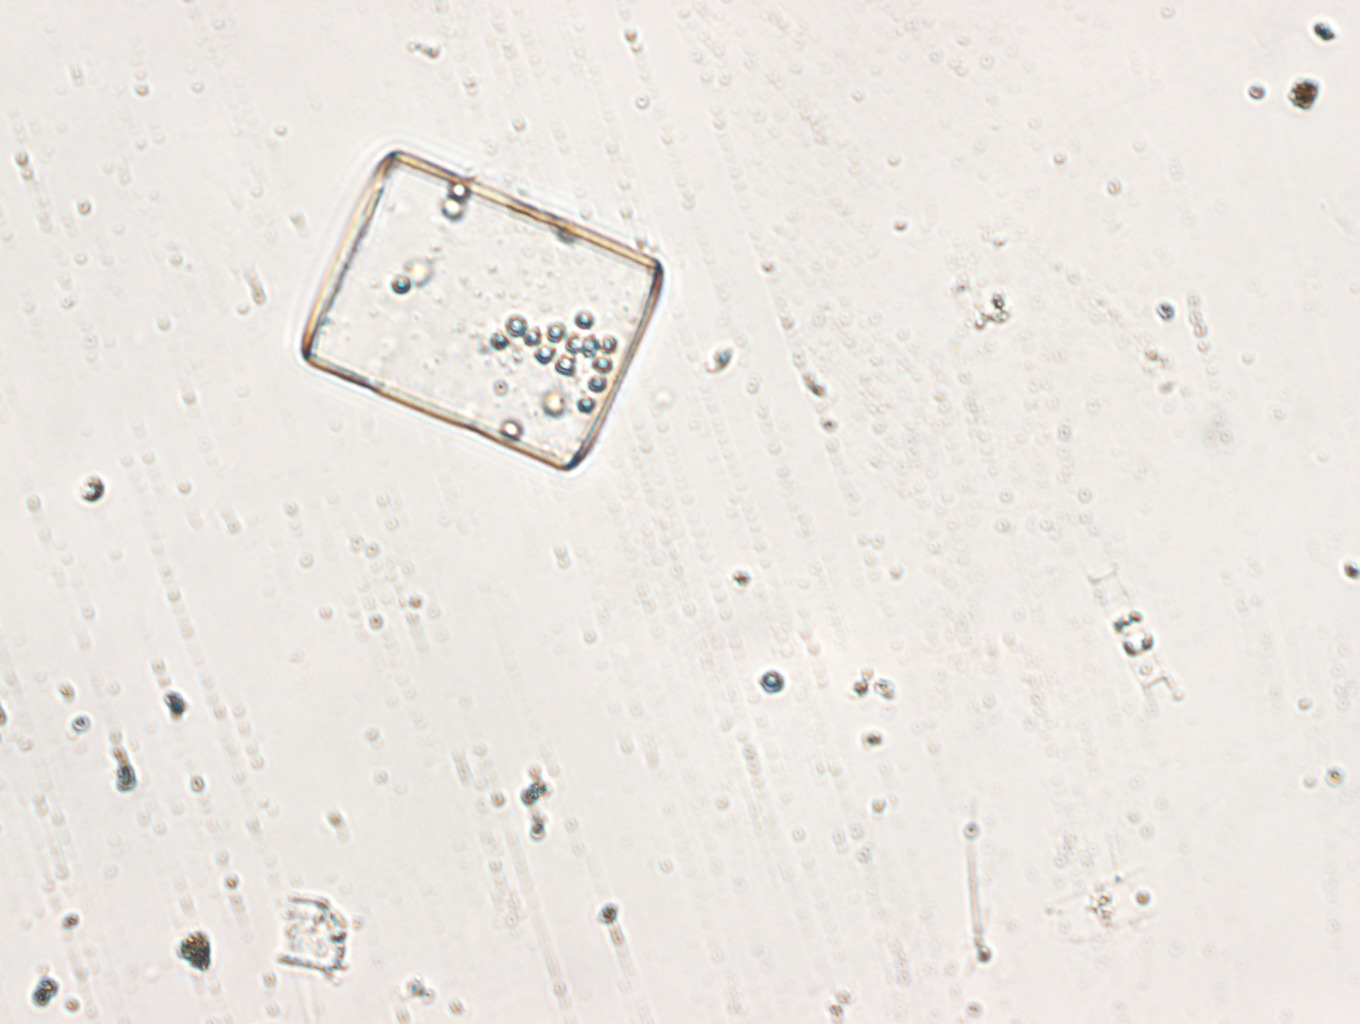guinardia flaccida: (290, 142, 667, 479)
skeletonema: (1083, 560, 1179, 710)
